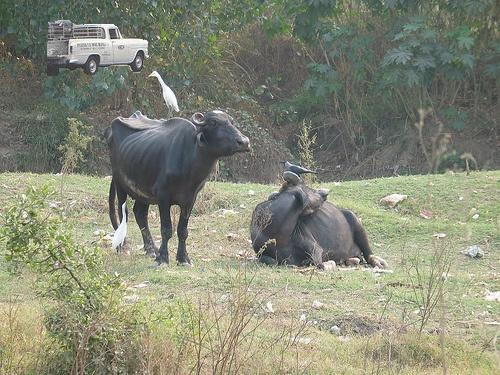tampered: (48, 21, 149, 76)
